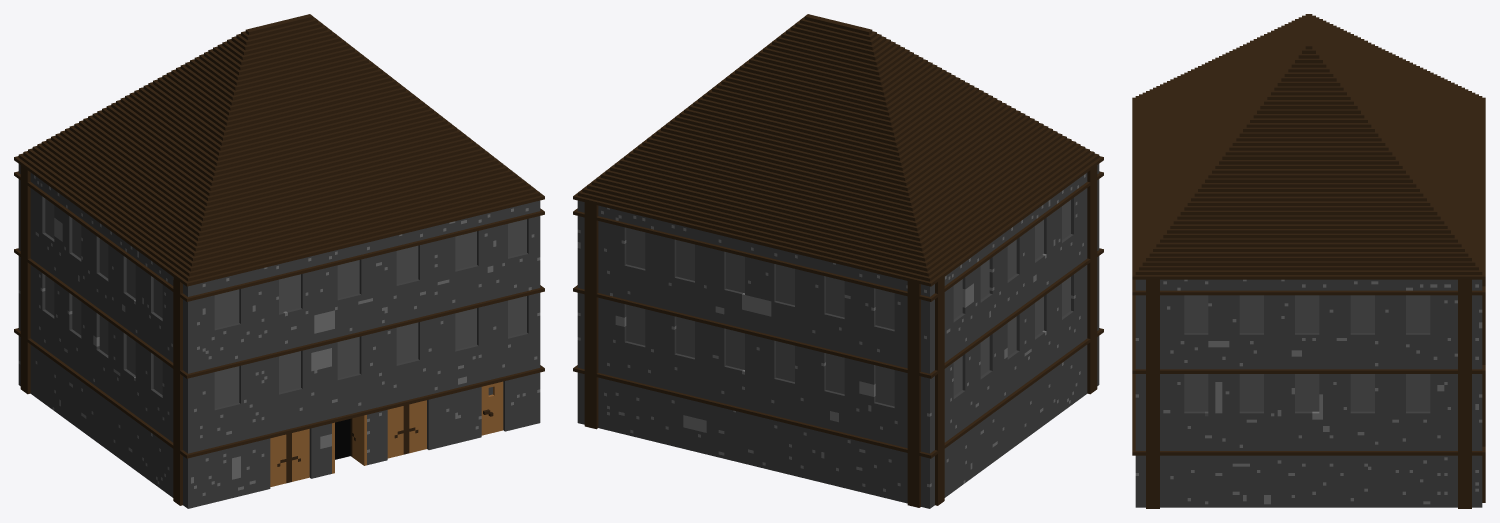
File: buildingMilitary.obj
3 views of the same model, side by side, from view 1: azimuth 30°, elevation 25°; view 2: azimuth 150°, elevation 25°; view 3: azimuth 270°, elevation 25° (orthographic). The views are drawn at different scales.
Parts seen in each view (by area): view 1: buildingMilitary; view 2: buildingMilitary; view 3: buildingMilitary.
Part boxes in pixels (x1,y1,x2,y2): buildingMilitary: (14,14,544,508); buildingMilitary: (573,14,1103,508); buildingMilitary: (1132,14,1485,508).
Size of the model in its own units: 122 by 124 by 102.
Materials: 1 (1 with a texture image).
